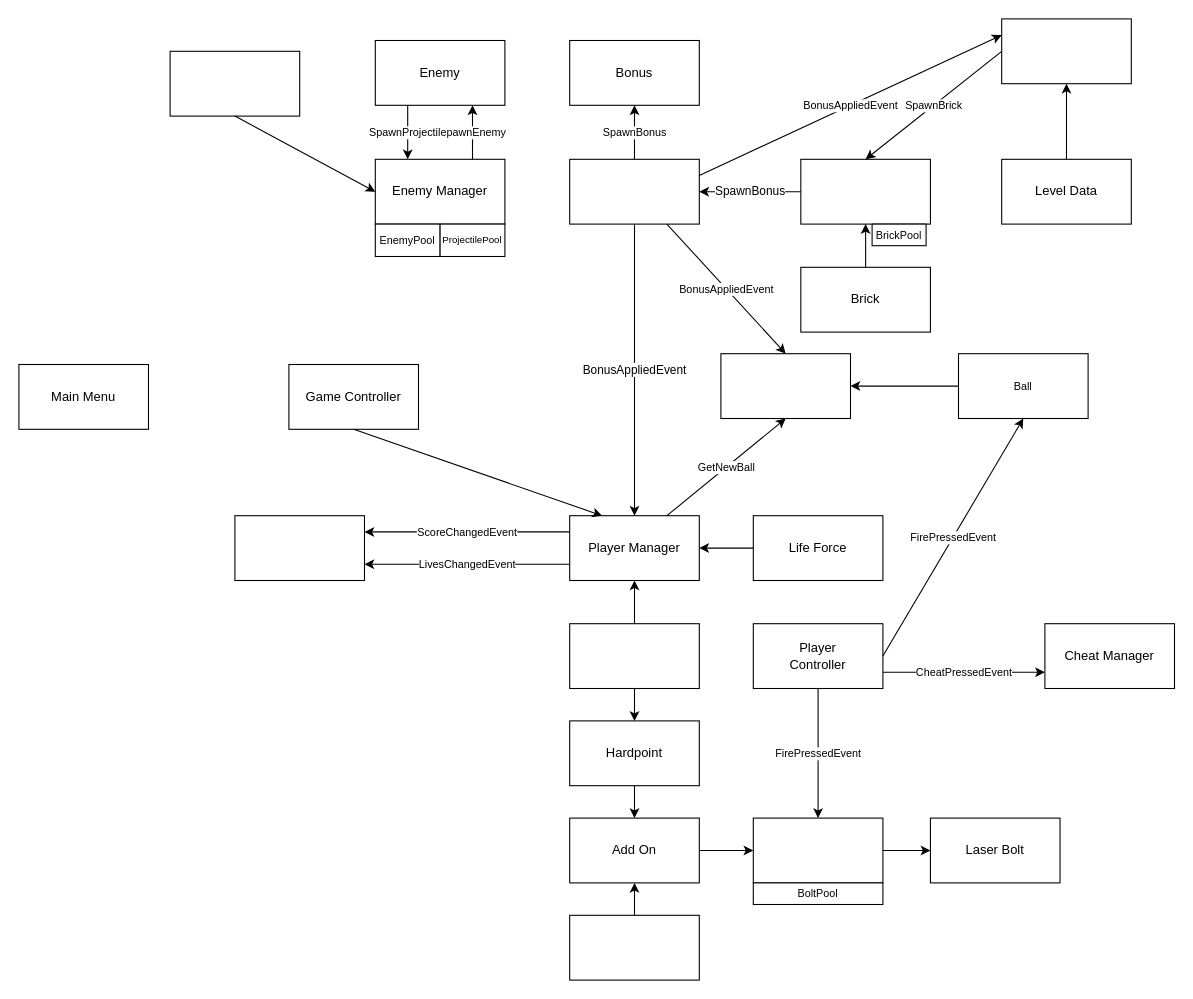
Some shapes in this 1193 by 999 pixel diagram are drawn without their labels. The shapes that lost their labels are listed below. From the top down, each one's centre as x and y in pixels, then its label:
At pixel 1066 51: "Level Manager".
At pixel 234 83: "Projectile".
At pixel 634 191: "Bonus Manager".
At pixel 865 191: "Brick Manager".
At pixel 785 385: "Ball Manager".
At pixel 299 547: "Game Manager".
At pixel 634 655: "Player".
At pixel 817 850: "Laser".
At pixel 634 947: "Add On Manager".
